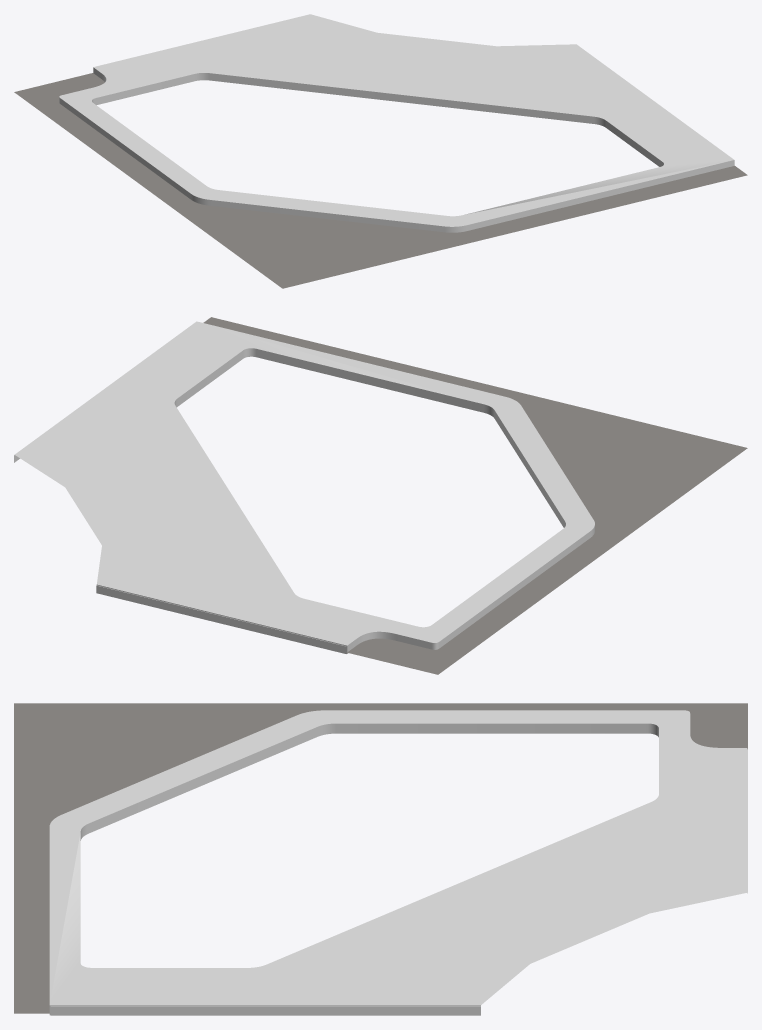
The model's file is MMo_C_001_h_32x32.fbx.
3 renders of one model, top to bottom at view 1: azimuth 30°, elevation 25°; view 2: azimuth 150°, elevation 25°; view 3: azimuth 270°, elevation 25°, orthographic. The views are drawn at different scales.
Visible parts, largest first — view 1: MMo_C_001_h_32x32; view 2: MMo_C_001_h_32x32; view 3: MMo_C_001_h_32x32.
Part boxes in pixels (bbox=[...]): MMo_C_001_h_32x32: bbox=[14, 14, 747, 288]; MMo_C_001_h_32x32: bbox=[14, 317, 747, 674]; MMo_C_001_h_32x32: bbox=[14, 703, 747, 1015].
Size of the model in its own units: 33 by 0.5 by 33.
